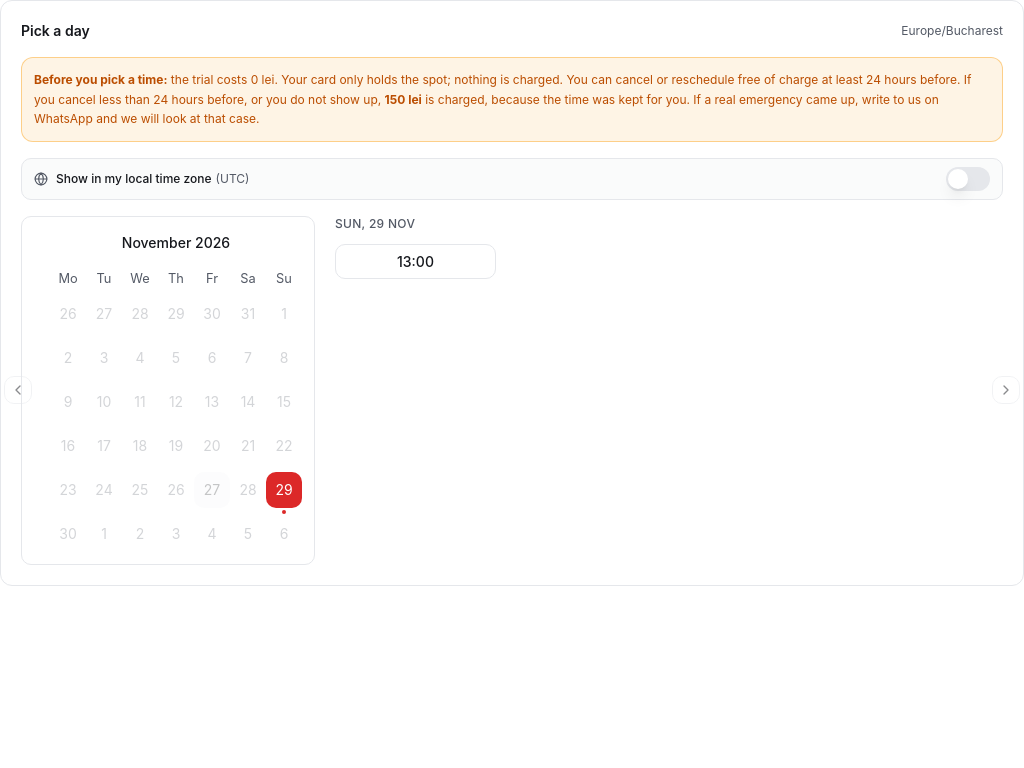
Test case: free-trial booking through email verification › hands the same slot to checkout after verification and shows a server duplicate refusal
This screenshot has width=1024, height=768.
Click the button "13:00".
click(416, 261)  # box [335, 244, 496, 279]
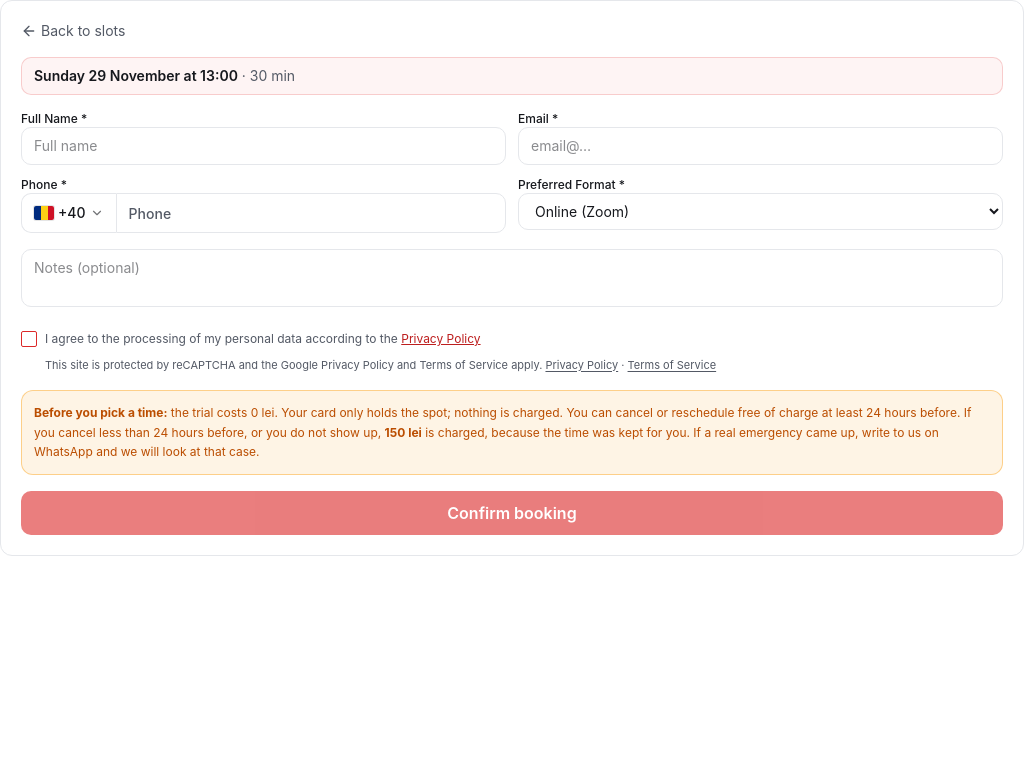
Type "Test Visitor" into the field with placeholder "Full Name".
click(264, 146); type("Test Visitor")  # box [21, 127, 506, 165]
Type "visitor@example.test" into the field with placeholder "email@…".
click(760, 146); type("visitor@example.test")  # box [518, 127, 1003, 165]
Type "+40722123456" into the field with placeholder "Phone".
click(311, 213); type("+40722123456")  # box [116, 193, 506, 233]
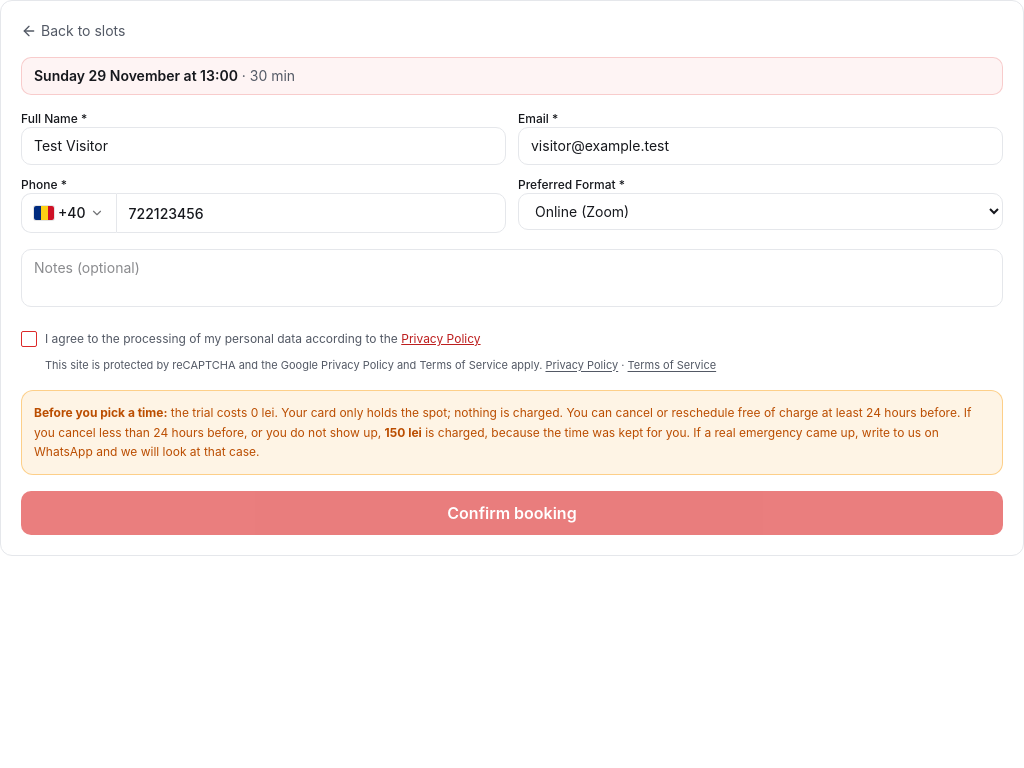
Click the checkbox.
click(29, 339)  # box [21, 331, 37, 347]
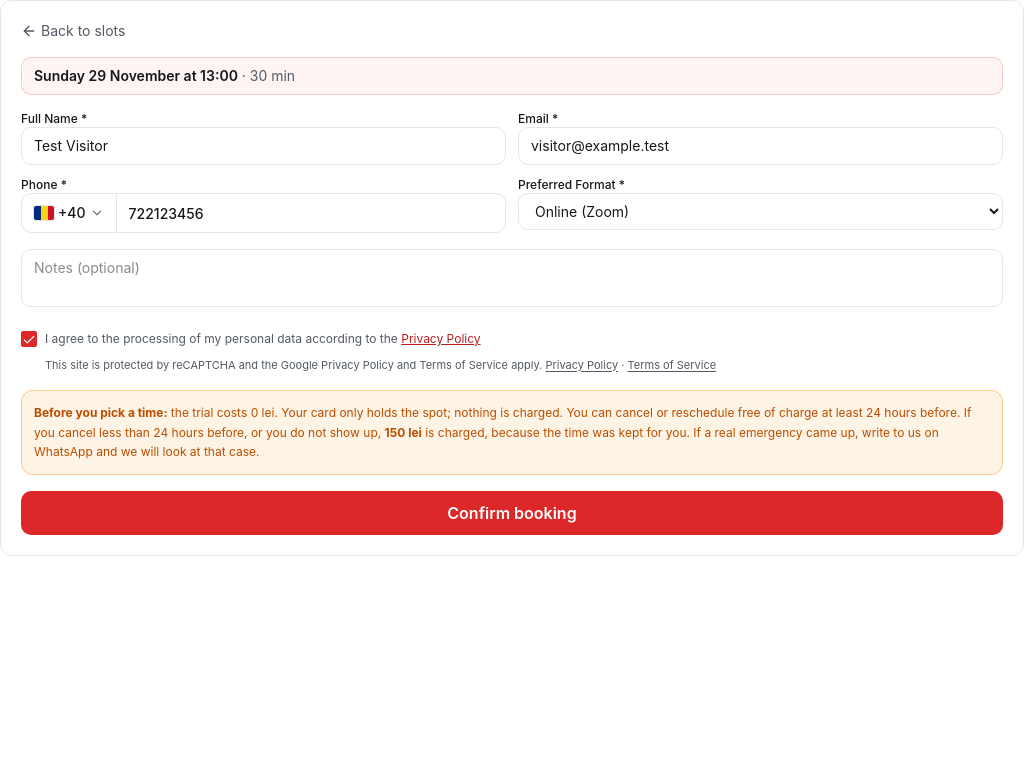
Click the button "Confirm booking".
click(512, 513)  # box [21, 491, 1003, 535]
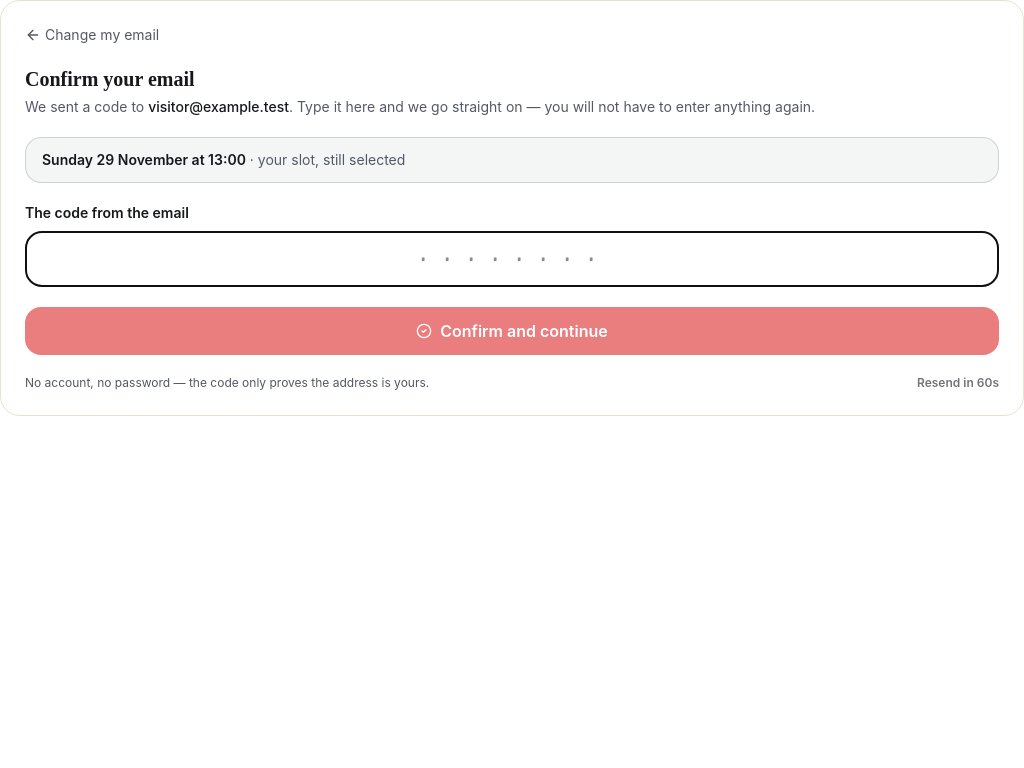
Type "012345" into the field labelled "The code from the email".
click(512, 259); type("012345")  # box [25, 231, 999, 287]
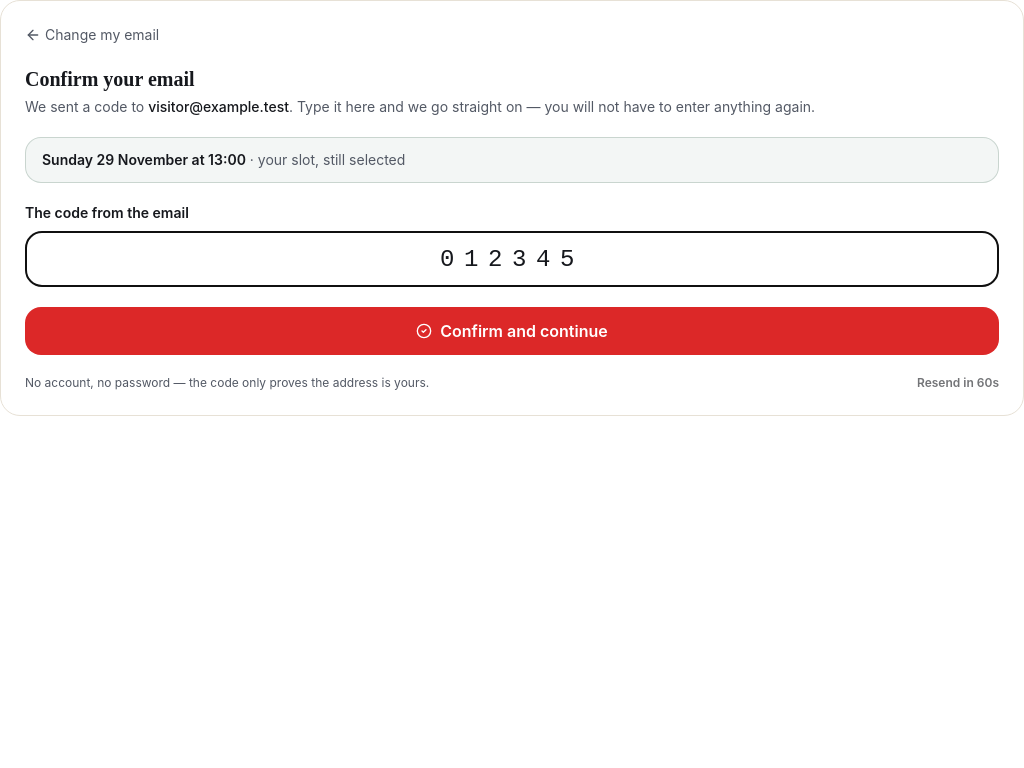
Click the button "Confirm and continue".
click(512, 331)  # box [25, 307, 999, 355]
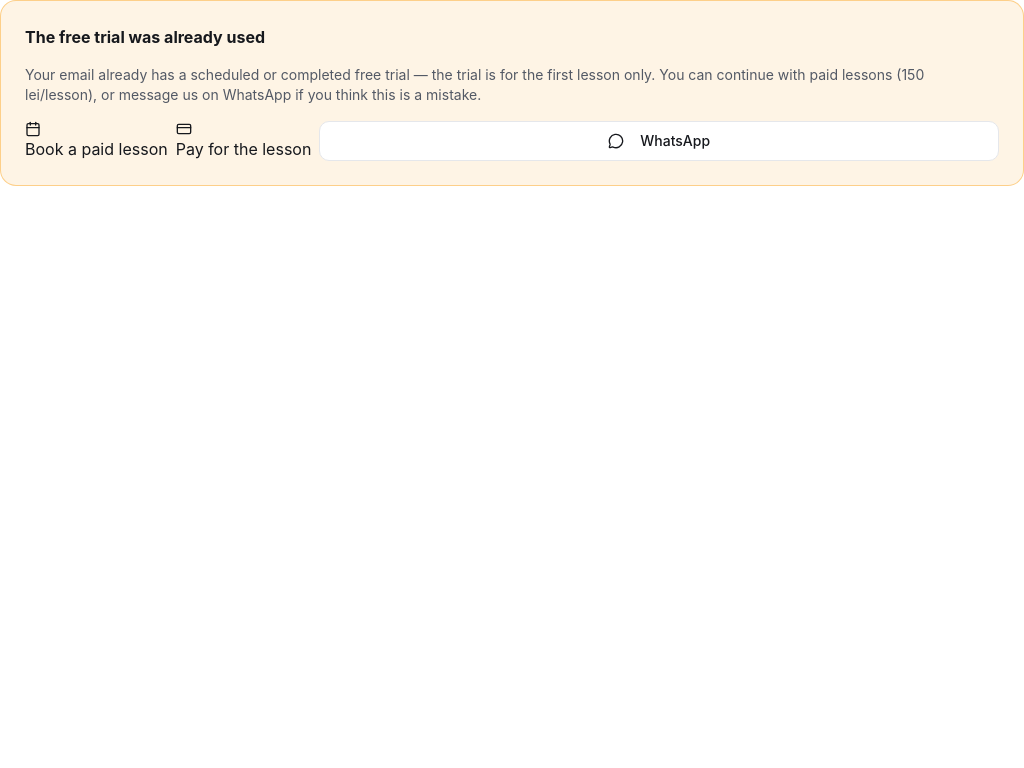
Now the heading "The free trial was already used" is shown, box [25, 27, 265, 47]
Now the label labelled "The code from the email" is gone
